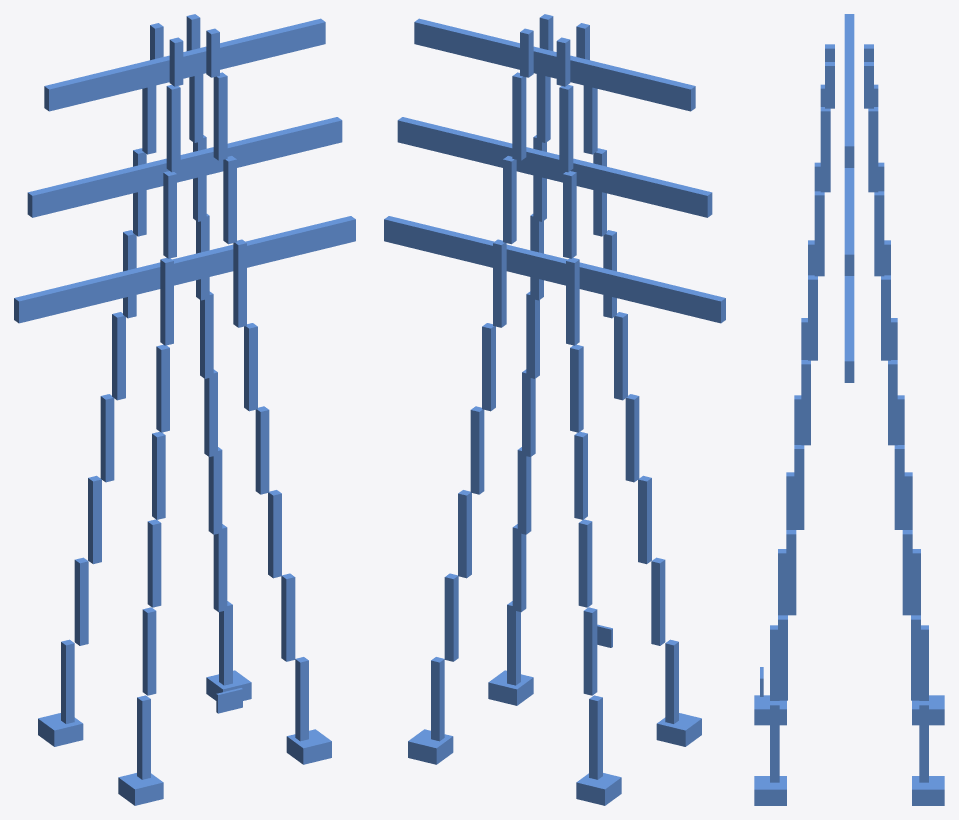
Rendered from ProjectZ_PLT35_Pylon_Standalone_Collision.glb.
3 views of the same model, side by side, from view 1: azimuth 30°, elevation 25°; view 2: azimuth 150°, elevation 25°; view 3: azimuth 270°, elevation 25° (orthographic). The views are drawn at different scales.
Parts seen in each view (by area): view 1: UCX_PLT35_Crossarm_01, UCX_PLT35_Crossarm_02, UCX_PLT35_Crossarm_03, UCX_PLT35_TowerLeg_T02_+1_-1, UCX_PLT35_TowerLeg_T02_-1_-1, UCX_PLT35_TowerLeg_T02_-1_+1, UCX_PLT35_TowerLeg_T03_-1_-1, UCX_PLT35_TowerLeg_T04_-1_+1, UCX_PLT35_TowerLeg_T04_+1_-1, UCX_PLT35_TowerLeg_T08_-1_-1, UCX_PLT35_TowerLeg_T08_+1_-1, UCX_PLT35_TowerLeg_T02_+1_+1 (+29 smaller); view 2: UCX_PLT35_Crossarm_01, UCX_PLT35_Crossarm_02, UCX_PLT35_Crossarm_03, UCX_PLT35_TowerLeg_T02_+1_+1, UCX_PLT35_TowerLeg_T02_-1_-1, UCX_PLT35_TowerLeg_T02_-1_+1, UCX_PLT35_TowerLeg_T03_-1_+1, UCX_PLT35_TowerLeg_T04_-1_-1, UCX_PLT35_TowerLeg_T04_+1_+1, UCX_PLT35_TowerLeg_T08_-1_+1, UCX_PLT35_TowerLeg_T08_+1_+1, UCX_PLT35_TowerLeg_T02_+1_-1 (+29 smaller); view 3: UCX_PLT35_Crossarm_03, UCX_PLT35_Crossarm_02, UCX_PLT35_Crossarm_01, UCX_PLT35_TowerLeg_T03_+1_-1, UCX_PLT35_TowerLeg_T03_+1_+1, UCX_PLT35_TowerLeg_T07_+1_-1, UCX_PLT35_TowerLeg_T07_+1_+1, UCX_PLT35_TowerLeg_T08_+1_-1, UCX_PLT35_TowerLeg_T08_+1_+1, UCX_PLT35_PylonFoot_ES, UCX_PLT35_PylonFoot_EN, UCX_PLT35_TowerLeg_T04_+1_-1 (+21 smaller).
Boxes of the visible parts, x1=… form: UCX_PLT35_Crossarm_01: x1=14, y1=216, x2=355, y2=323; UCX_PLT35_Crossarm_02: x1=27, y1=117, x2=342, y2=217; UCX_PLT35_Crossarm_03: x1=44, y1=18, x2=325, y2=111; UCX_PLT35_TowerLeg_T02_+1_-1: x1=281, y1=573, x2=295, y2=661; UCX_PLT35_TowerLeg_T02_-1_-1: x1=142, y1=607, x2=156, y2=695; UCX_PLT35_TowerLeg_T02_-1_+1: x1=74, y1=557, x2=88, y2=645; UCX_PLT35_TowerLeg_T03_-1_-1: x1=147, y1=519, x2=161, y2=607; UCX_PLT35_TowerLeg_T04_-1_+1: x1=100, y1=394, x2=114, y2=482; UCX_PLT35_TowerLeg_T04_+1_-1: x1=255, y1=406, x2=269, y2=494; UCX_PLT35_TowerLeg_T08_-1_-1: x1=166, y1=84, x2=180, y2=172; UCX_PLT35_TowerLeg_T08_+1_-1: x1=213, y1=72, x2=227, y2=160; UCX_PLT35_TowerLeg_T02_+1_+1: x1=213, y1=524, x2=227, y2=612; UCX_PLT35_Crossarm_01: x1=384, y1=216, x2=725, y2=323; UCX_PLT35_Crossarm_02: x1=397, y1=117, x2=712, y2=217; UCX_PLT35_Crossarm_03: x1=414, y1=18, x2=695, y2=111; UCX_PLT35_TowerLeg_T02_+1_+1: x1=444, y1=573, x2=458, y2=661; UCX_PLT35_TowerLeg_T02_-1_-1: x1=651, y1=557, x2=665, y2=645; UCX_PLT35_TowerLeg_T02_-1_+1: x1=583, y1=607, x2=597, y2=695; UCX_PLT35_TowerLeg_T03_-1_+1: x1=578, y1=519, x2=592, y2=607; UCX_PLT35_TowerLeg_T04_-1_-1: x1=625, y1=394, x2=639, y2=482; UCX_PLT35_TowerLeg_T04_+1_+1: x1=470, y1=406, x2=484, y2=494; UCX_PLT35_TowerLeg_T08_-1_+1: x1=559, y1=84, x2=573, y2=172; UCX_PLT35_TowerLeg_T08_+1_+1: x1=512, y1=72, x2=526, y2=160; UCX_PLT35_TowerLeg_T02_+1_-1: x1=512, y1=524, x2=526, y2=612; UCX_PLT35_Crossarm_03: x1=844, y1=14, x2=854, y2=167; UCX_PLT35_Crossarm_02: x1=844, y1=168, x2=854, y2=275; UCX_PLT35_Crossarm_01: x1=844, y1=276, x2=854, y2=382; UCX_PLT35_TowerLeg_T03_+1_-1: x1=786, y1=530, x2=796, y2=615; UCX_PLT35_TowerLeg_T03_+1_+1: x1=902, y1=530, x2=912, y2=615; UCX_PLT35_TowerLeg_T07_+1_-1: x1=814, y1=191, x2=824, y2=276; UCX_PLT35_TowerLeg_T07_+1_+1: x1=874, y1=191, x2=884, y2=276; UCX_PLT35_TowerLeg_T08_+1_-1: x1=820, y1=107, x2=830, y2=192; UCX_PLT35_TowerLeg_T08_+1_+1: x1=868, y1=107, x2=878, y2=192; UCX_PLT35_PylonFoot_ES: x1=754, y1=776, x2=786, y2=805; UCX_PLT35_PylonFoot_EN: x1=912, y1=776, x2=944, y2=805; UCX_PLT35_TowerLeg_T04_+1_-1: x1=794, y1=445, x2=804, y2=529.
Size of the model in its own units: 16.2 by 32.98 by 8.08.
